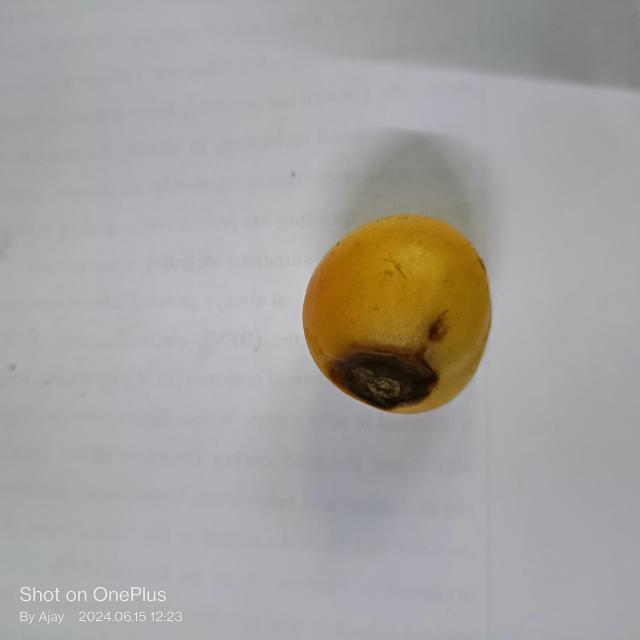Anthrocnose: (321, 338, 435, 412)
